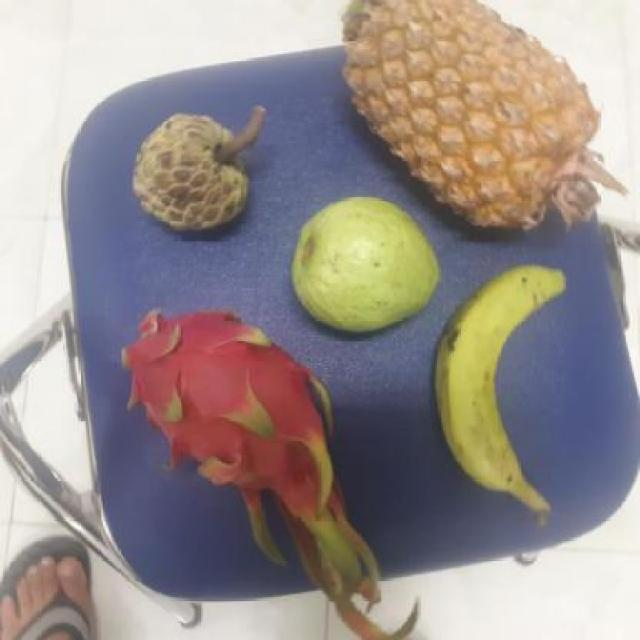banana: (424, 263, 568, 502)
dragon fruit: (114, 309, 338, 511)
guava: (284, 197, 438, 331)
pineapple: (337, 1, 597, 224)
sugar apple: (127, 114, 250, 237)
